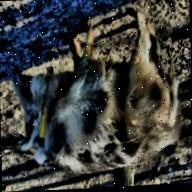boar: (1, 11, 189, 178)
